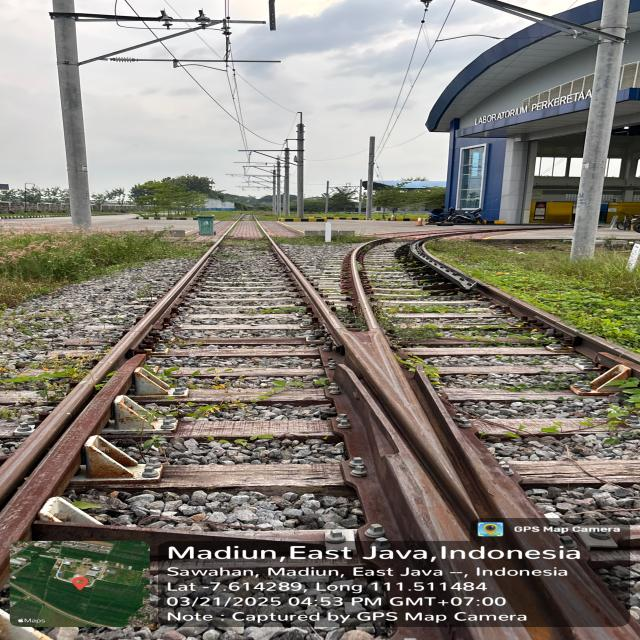rail-detection: (271, 240, 638, 640), (0, 236, 224, 500), (410, 239, 640, 376), (270, 239, 346, 345), (2, 498, 34, 546), (214, 220, 239, 247), (252, 215, 271, 239)
